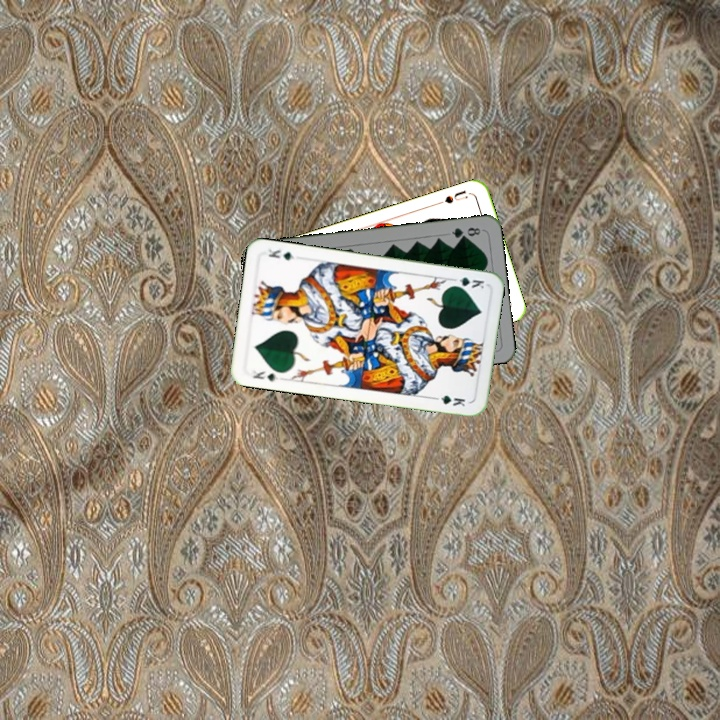G8: (448, 223, 483, 241)
GK: (447, 273, 487, 291), (249, 366, 281, 384)
SU: (433, 186, 473, 207)
